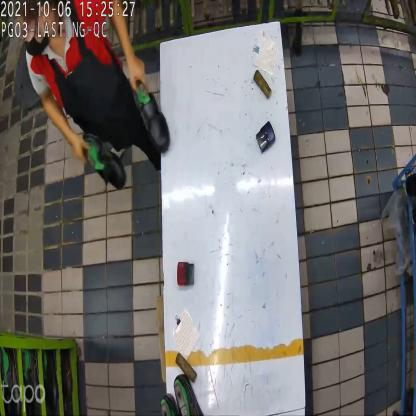shoes: (90, 93, 170, 184)
stamp: (255, 123, 276, 157), (177, 258, 195, 288)
